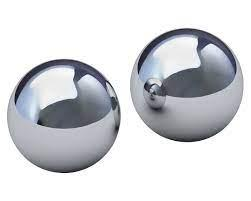steelball: (126, 25, 247, 145), (3, 56, 123, 174)
